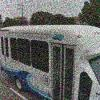buses: (0, 22, 100, 100)
